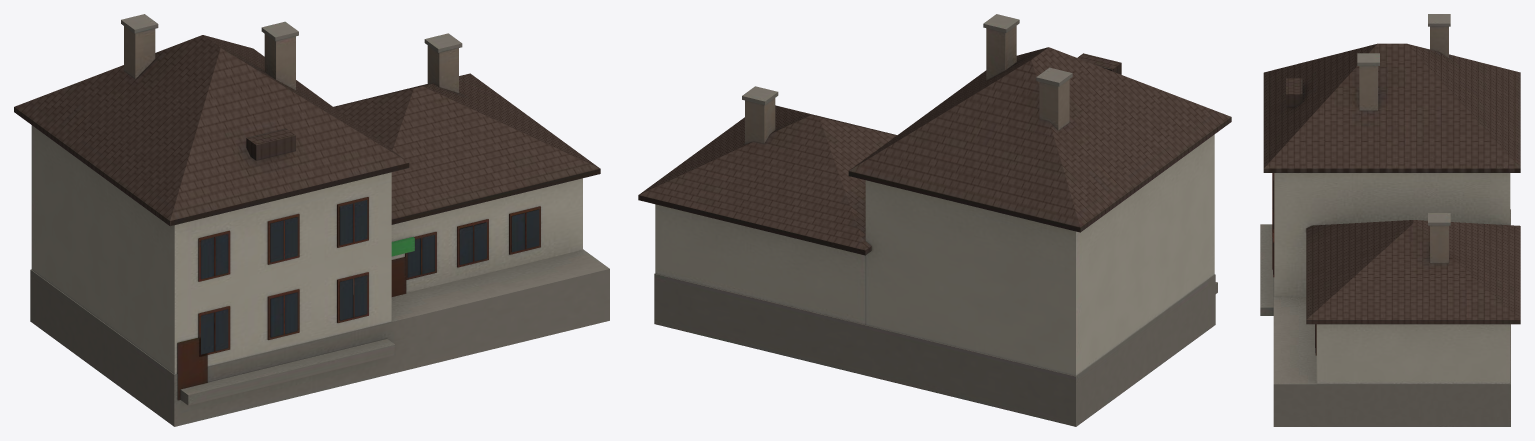
The model's file is dworzec.glb.
3 renders of one model, left to right at view 1: azimuth 30°, elevation 25°; view 2: azimuth 150°, elevation 25°; view 3: azimuth 270°, elevation 25°, orthographic. The views are drawn at different scales.
Parts seen in each view (by area): view 1: dworzec; view 2: dworzec; view 3: dworzec.
Boxes of the visible parts, x1,y1,x2,y2 form: dworzec: [14, 14, 609, 426]; dworzec: [638, 14, 1231, 426]; dworzec: [1260, 14, 1520, 426].
Size of the model in its own units: 18.4 by 12.15 by 11.05.
Materials: 1 (1 with a texture image).
